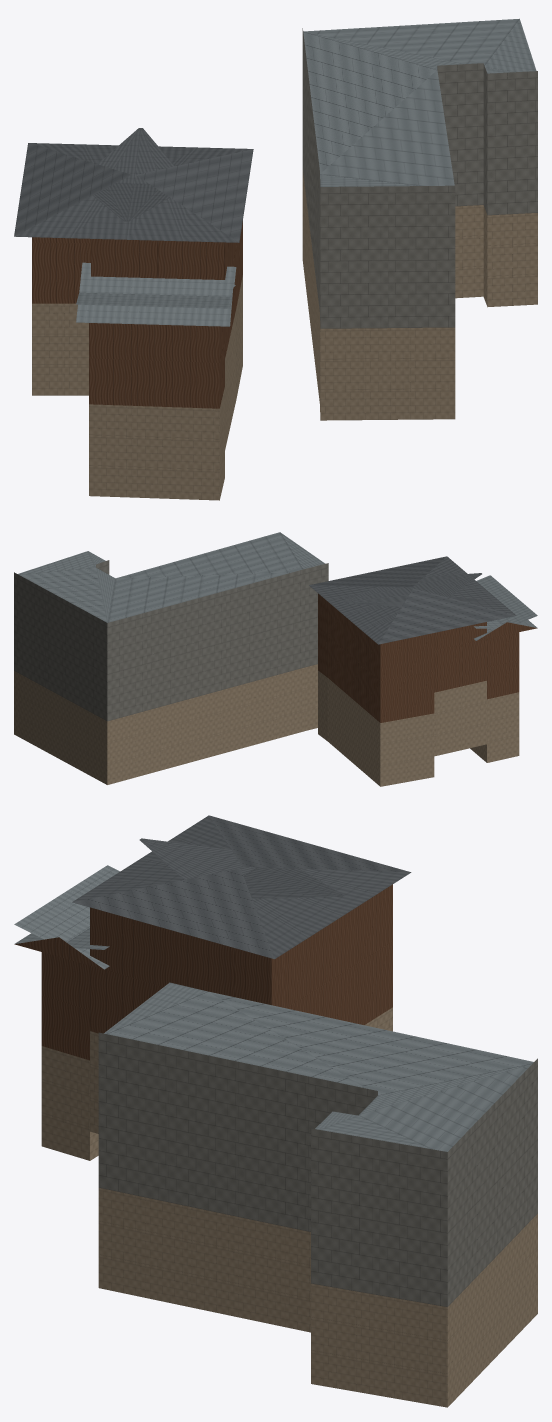
The model's file is bld_c21_43_381.gltf.
3 views of the same model, one above another, from view 1: azimuth 30°, elevation 25°; view 2: azimuth 150°, elevation 25°; view 3: azimuth 270°, elevation 25° (orthographic). The views are drawn at different scales.
Parts seen in each view (by area): view 1: bld_c21_43_381; view 2: bld_c21_43_381; view 3: bld_c21_43_381.
Part boxes in pixels (x1,y1,x2,y2): bld_c21_43_381: (14,18,537,500); bld_c21_43_381: (14,532,537,786); bld_c21_43_381: (14,815,537,1407).
Bounding box in the file's own units: 35.76 × 14.4 × 24.11.
Materials: 7 (7 with a texture image).
